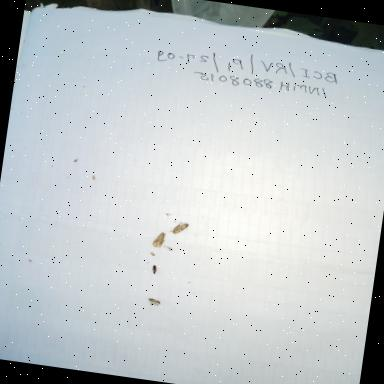pbw: (170, 216, 196, 239), (148, 228, 169, 250), (144, 295, 164, 307)
